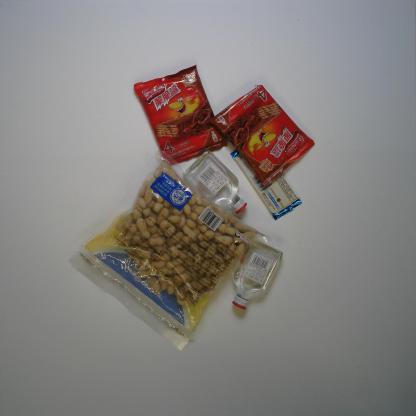Alcohol: (182, 149, 248, 215), (231, 240, 284, 312)
Chocolate: (229, 149, 303, 222)
Dessert: (207, 84, 316, 188), (132, 63, 228, 167)
Dried Food: (64, 147, 273, 353)
